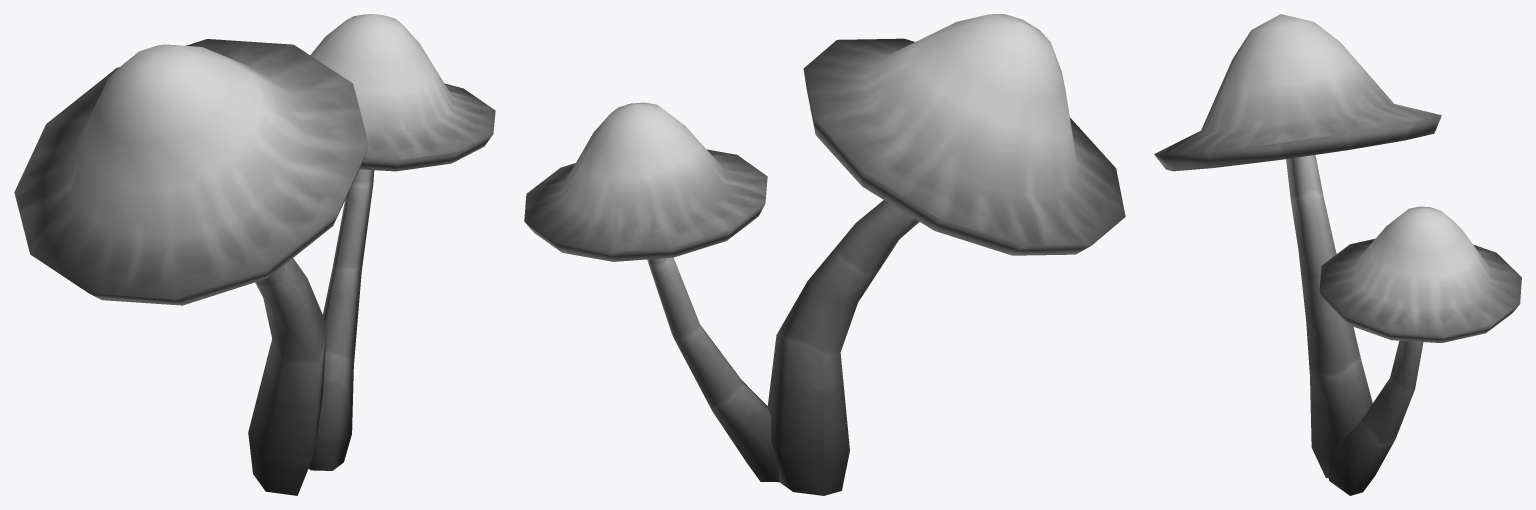
The model's file is Cave mushroom largeB Mobile.FBX.
3 renders of one model, left to right at view 1: azimuth 30°, elevation 25°; view 2: azimuth 150°, elevation 25°; view 3: azimuth 270°, elevation 25°, orthographic. The views are drawn at different scales.
Visible parts, largest first — view 1: Object014; view 2: Object014; view 3: Object014.
Boxes of the visible parts, x1,y1,x2,y2 form: Object014: (14,14,495,495); Object014: (524,14,1125,495); Object014: (1154,14,1521,495).
Bounding box in the file's own units: 4.6 × 4.29 × 3.6.
